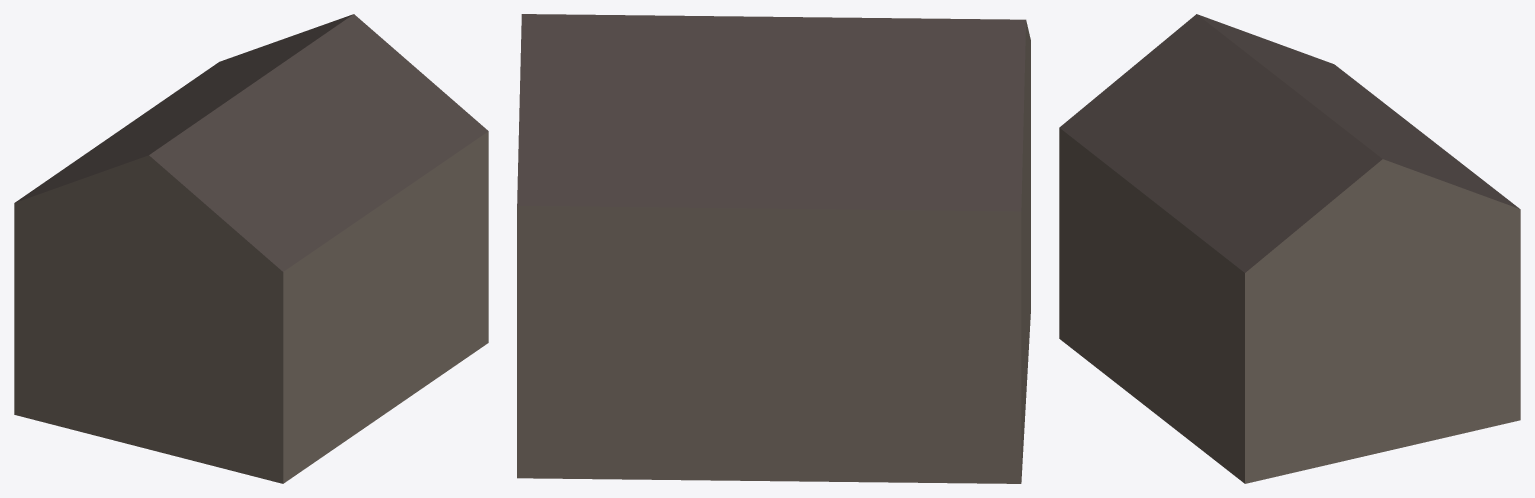
The picture shows the model from 3 angles, left to right: view 1: azimuth 30°, elevation 25°; view 2: azimuth 150°, elevation 25°; view 3: azimuth 270°, elevation 25°; orthographic projection. The views are drawn at different scales.
Parts seen in each view (by area): view 1: HP-w369237878; view 2: HP-w369237878; view 3: HP-w369237878.
Boxes of the visible parts, left/top/right/bottom form: HP-w369237878: left=14, top=14, right=488, bottom=483; HP-w369237878: left=517, top=14, right=1030, bottom=483; HP-w369237878: left=1059, top=14, right=1520, bottom=483.
Size of the model in its own units: 12.74 by 8.34 by 11.9.
